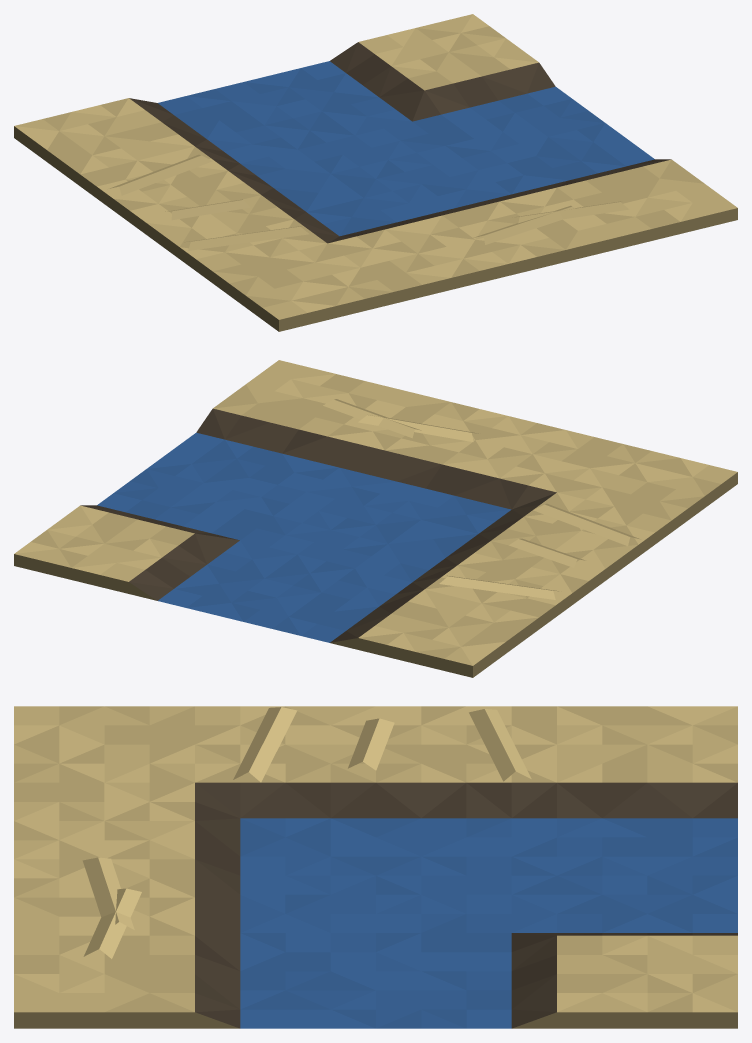
File: river_bend_sand.glb
The picture shows the model from 3 angles, top to bottom: view 1: azimuth 30°, elevation 25°; view 2: azimuth 150°, elevation 25°; view 3: azimuth 270°, elevation 25°; orthographic projection. The views are drawn at different scales.
Parts seen in each view (by area): view 1: river_bend_sand; view 2: river_bend_sand; view 3: river_bend_sand.
Boxes of the visible parts, x1=… form: river_bend_sand: x1=14, y1=14, x2=737, y2=331; river_bend_sand: x1=14, y1=360, x2=737, y2=677; river_bend_sand: x1=14, y1=706, x2=737, y2=1028.
Size of the model in its own units: 4 by 0.135 by 4.
